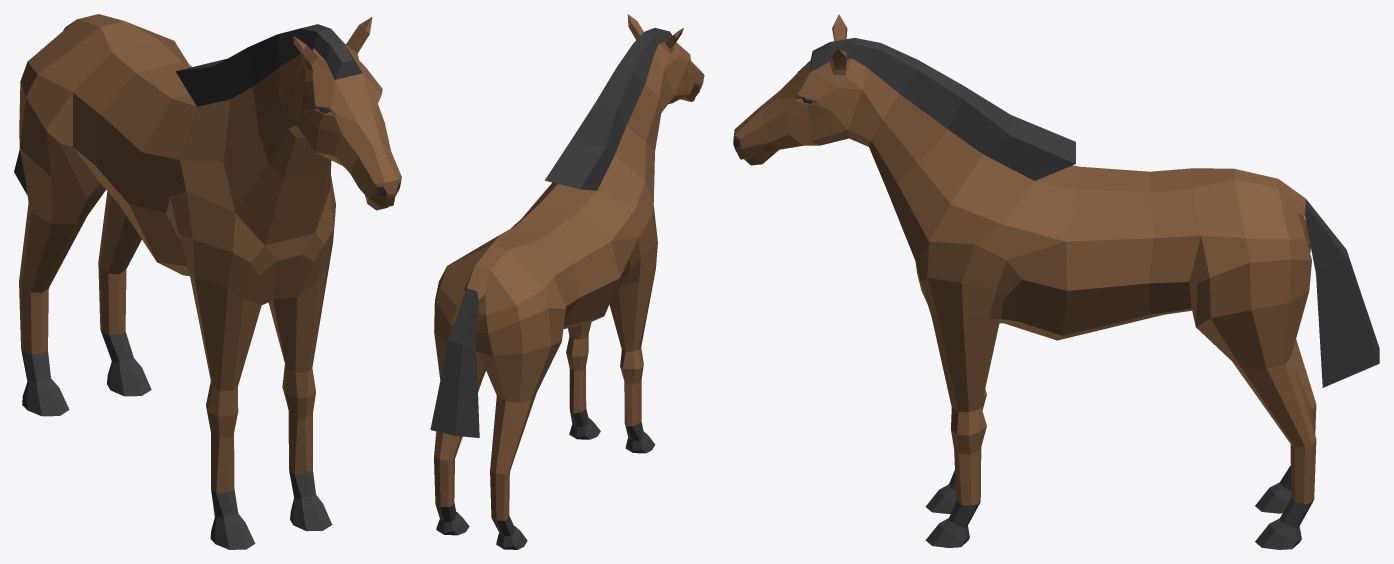
File: horse.fbx
3 renders of one model, left to right at view 1: azimuth 30°, elevation 25°; view 2: azimuth 150°, elevation 25°; view 3: azimuth 270°, elevation 25°, orthographic. The views are drawn at different scales.
Visible parts, largest first — view 1: horse_01; view 2: horse_01; view 3: horse_01.
Boxes of the visible parts, x1,y1,x2,y2 form: horse_01: (14,14,401,549); horse_01: (430,14,704,549); horse_01: (733,14,1379,549).
Size of the model in its own units: 0.6613 by 2.49 by 2.09.
